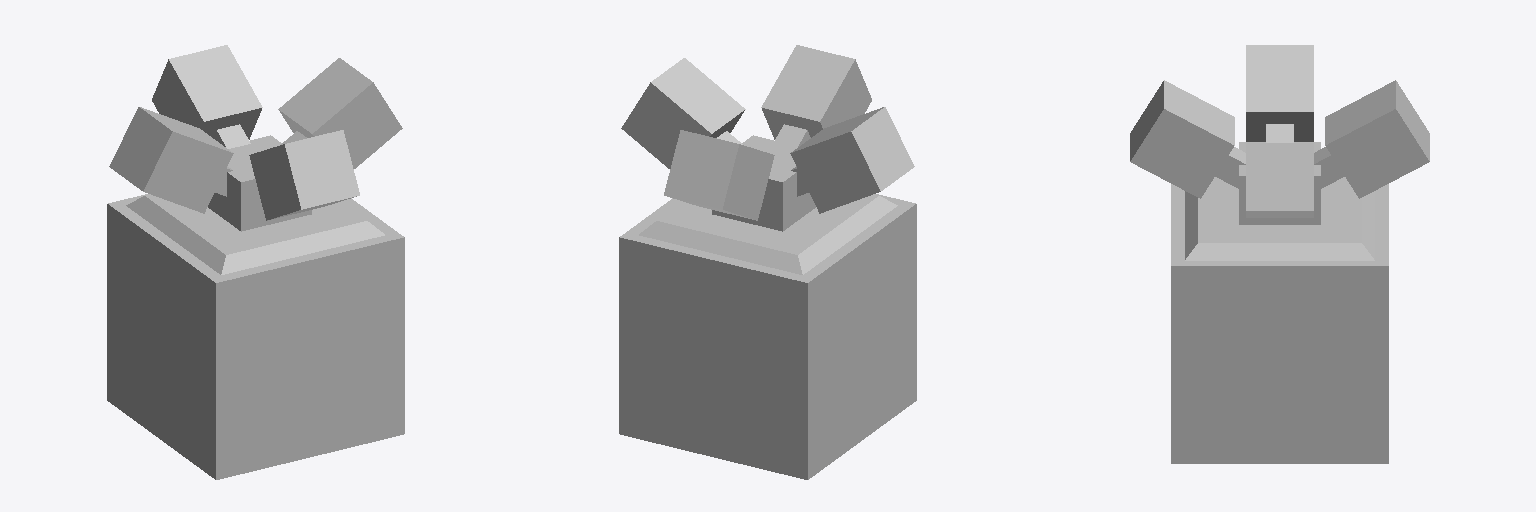
Rendered from sprinkler_normal_inv.obj.
3 views of the same model, side by side, from view 1: azimuth 30°, elevation 25°; view 2: azimuth 150°, elevation 25°; view 3: azimuth 270°, elevation 25° (orthographic).
Parts seen in each view (by area): view 1: cube; view 2: cube; view 3: cube.
Boxes of the visible parts, <box> form: cube: <box>107,45,404,479</box>; cube: <box>619,45,916,479</box>; cube: <box>1130,45,1429,463</box>.
Bounding box in the file's own units: 1.38 × 1.64 × 1.38.